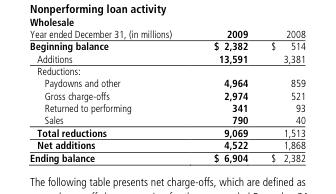table: (28, 28, 304, 163)
table column: (28, 28, 192, 163), (192, 28, 258, 163), (258, 28, 304, 163)
table column header: (28, 28, 304, 40)
table projected row header: (28, 64, 304, 77)
table row: (28, 64, 304, 77), (28, 113, 304, 126), (28, 126, 304, 139), (28, 28, 304, 40), (28, 40, 304, 52), (28, 52, 304, 64), (28, 77, 304, 89), (28, 89, 304, 101), (28, 101, 304, 113), (28, 139, 304, 151), (28, 151, 304, 163)
